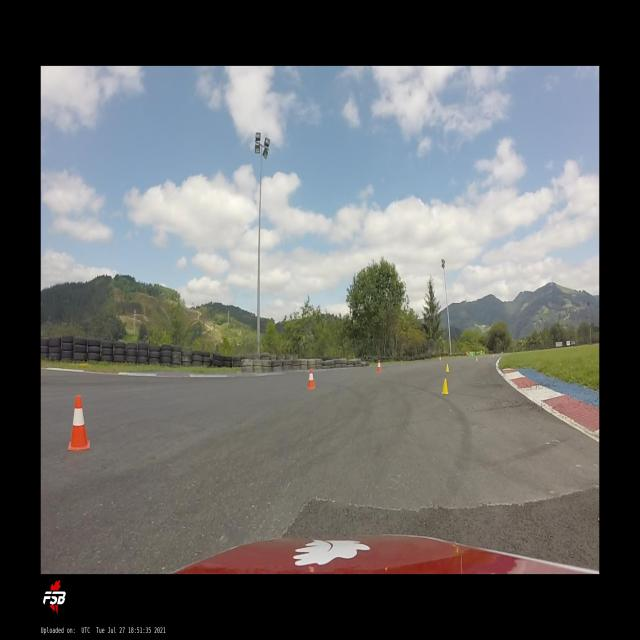orange_cone: (67, 395, 91, 452), (307, 369, 316, 389), (377, 360, 382, 372), (439, 356, 441, 361)
unknown_cone: (441, 378, 448, 395), (444, 363, 450, 372), (476, 356, 478, 362)
